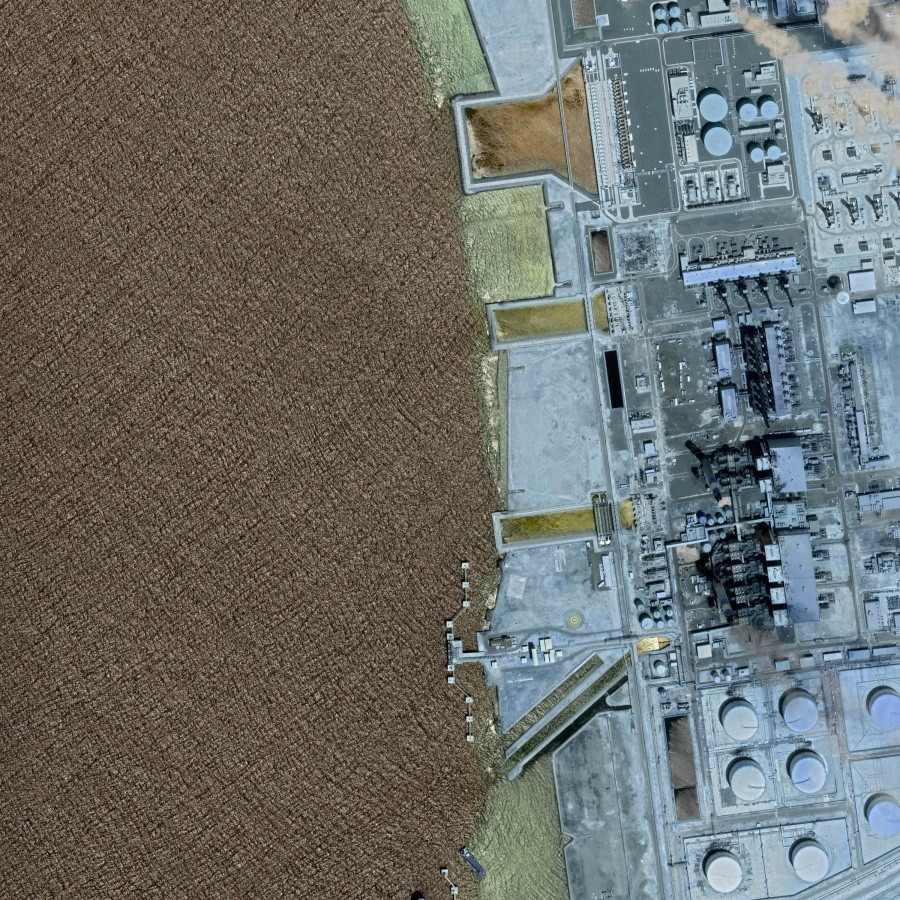PowerPlant: (632, 312, 854, 628)
